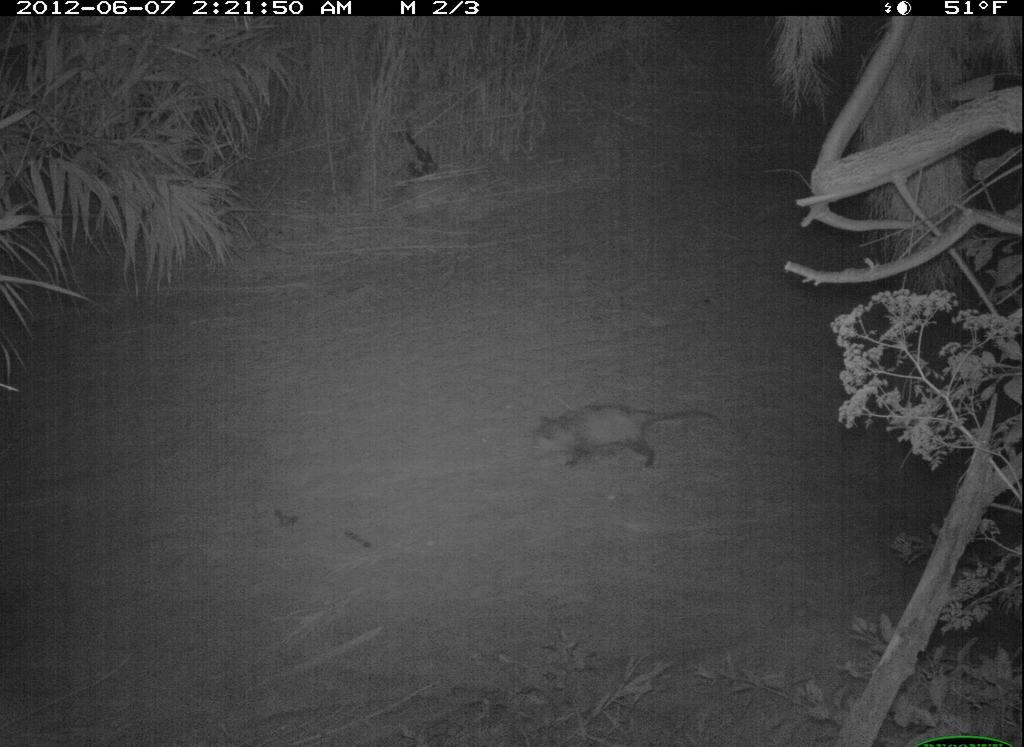opossum: (521, 401, 735, 478)
